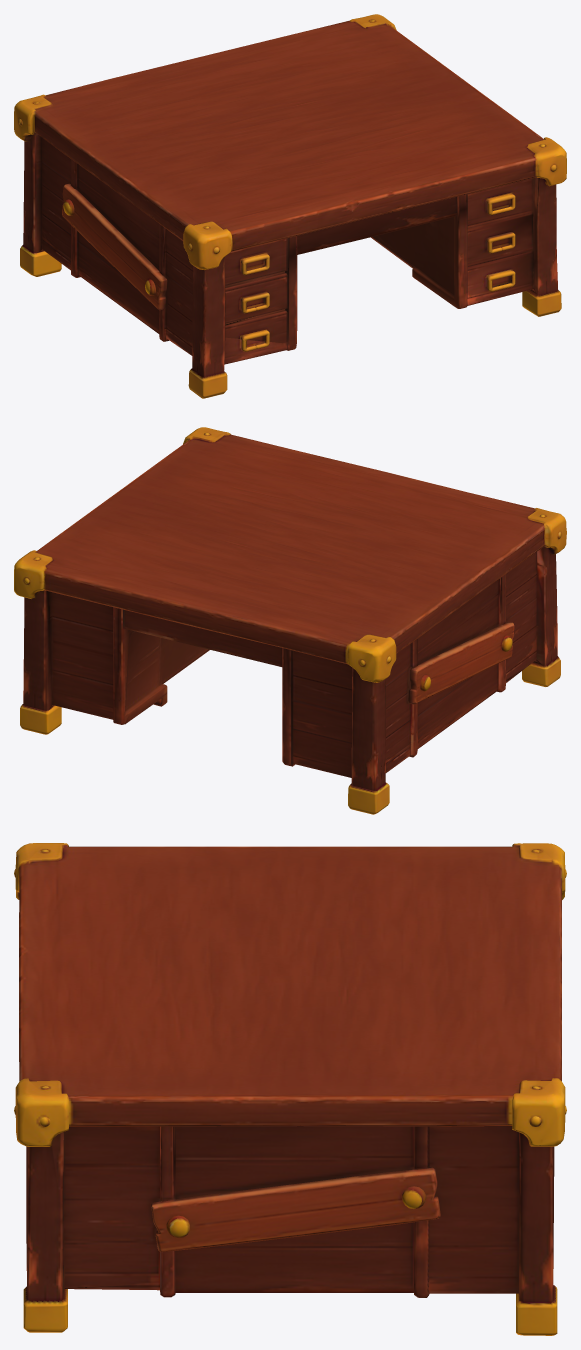
File: captain_desk.glb
3 renders of one model, top to bottom at view 1: azimuth 30°, elevation 25°; view 2: azimuth 150°, elevation 25°; view 3: azimuth 270°, elevation 25°, orthographic. The views are drawn at different scales.
Parts seen in each view (by area): view 1: tripo_node_2fa6f40f-9ee6-47e6-91fe-08d1cecf76dc; view 2: tripo_node_2fa6f40f-9ee6-47e6-91fe-08d1cecf76dc; view 3: tripo_node_2fa6f40f-9ee6-47e6-91fe-08d1cecf76dc.
Boxes of the visible parts, <box> form: tripo_node_2fa6f40f-9ee6-47e6-91fe-08d1cecf76dc: <box>14,14,566,398</box>; tripo_node_2fa6f40f-9ee6-47e6-91fe-08d1cecf76dc: <box>14,427,566,814</box>; tripo_node_2fa6f40f-9ee6-47e6-91fe-08d1cecf76dc: <box>14,843,566,1335</box>.
Bounding box in the file's own units: 0.9995 × 0.4341 × 0.8921.
1 material, 1 textured.
